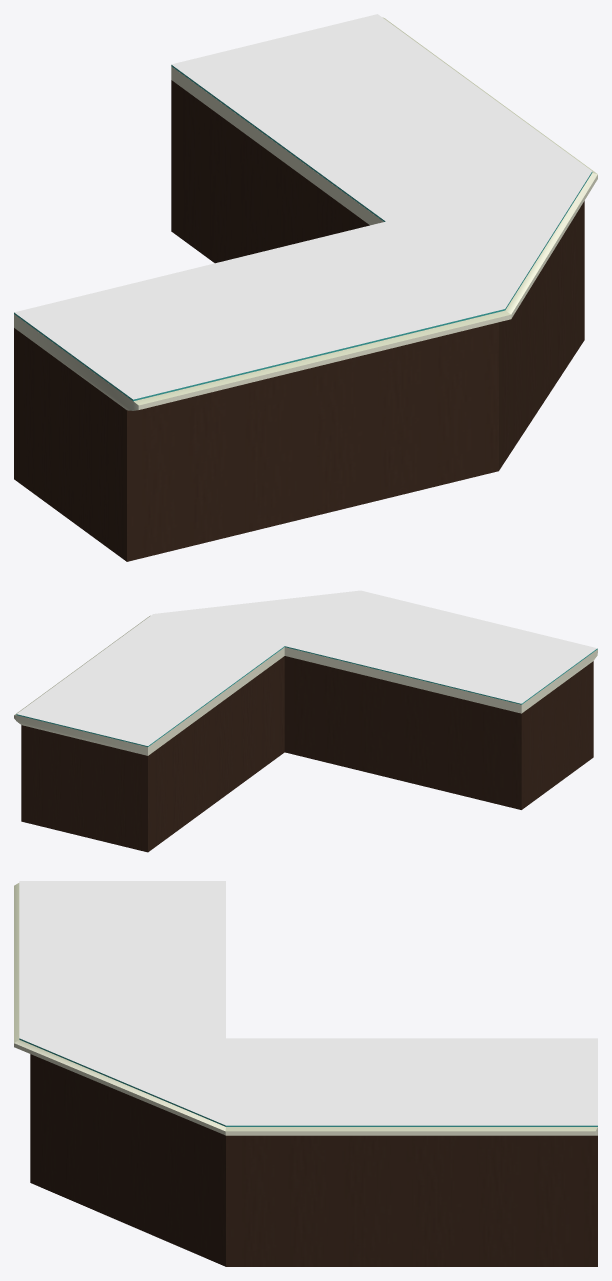
Rendered from Counter_B_03.FBX.
3 views of the same model, one above another, from view 1: azimuth 30°, elevation 25°; view 2: azimuth 150°, elevation 25°; view 3: azimuth 270°, elevation 25° (orthographic). The views are drawn at different scales.
Visible parts, largest first — view 1: Countertop_B; view 2: Countertop_B; view 3: Countertop_B.
Part boxes in pixels (<box>): Countertop_B: <box>14,14,597,561</box>; Countertop_B: <box>14,590,597,852</box>; Countertop_B: <box>14,881,597,1266</box>.
Size of the model in its own units: 549 by 150 by 550.
